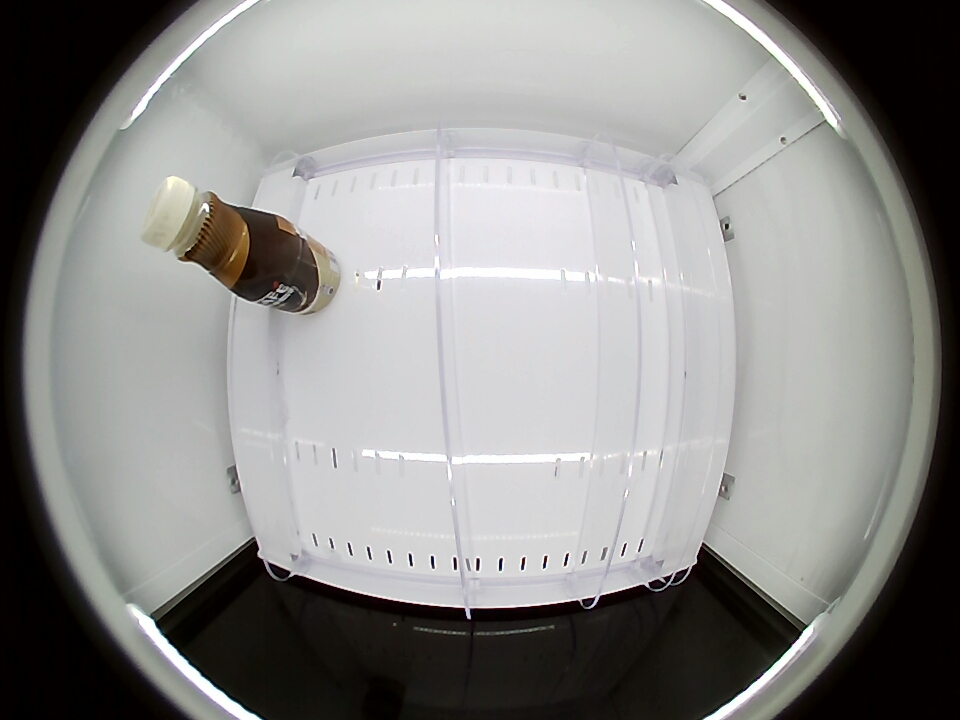kafei: (141, 177, 279, 299)
